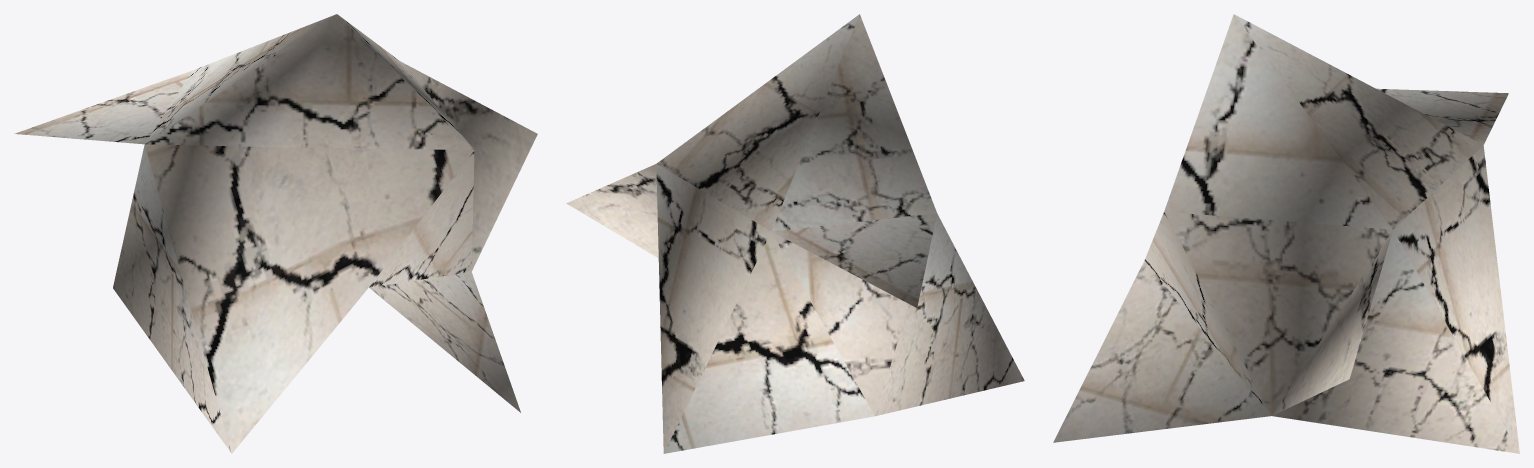
Rendered from common_trash_paper_03.glb.
3 renders of one model, left to right at view 1: azimuth 30°, elevation 25°; view 2: azimuth 150°, elevation 25°; view 3: azimuth 270°, elevation 25°, orthographic. The views are drawn at different scales.
Visible parts, largest first — view 1: common/common_trash_paper_03_0; view 2: common/common_trash_paper_03_0; view 3: common/common_trash_paper_03_0.
Part boxes in pixels (bbox=[...]): common/common_trash_paper_03_0: bbox=[14, 14, 537, 453]; common/common_trash_paper_03_0: bbox=[566, 14, 1024, 453]; common/common_trash_paper_03_0: bbox=[1053, 14, 1519, 453].
Size of the model in its own units: 2 by 1.64 by 1.72.
Materials: 1 (1 with a texture image).
